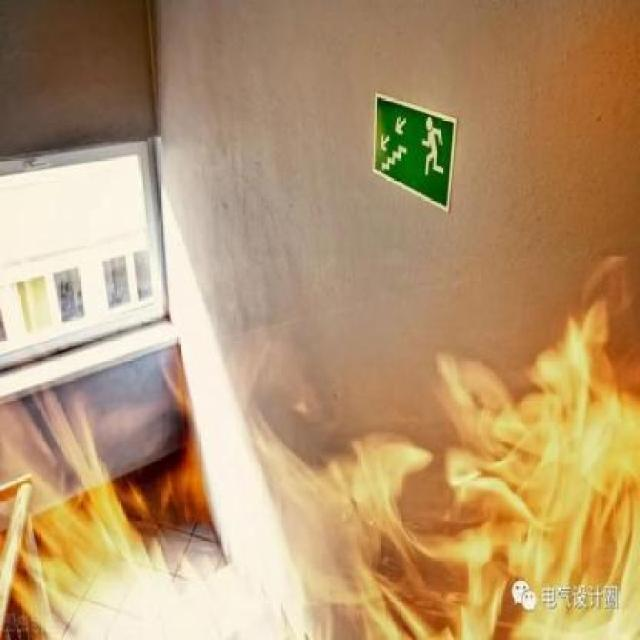exit_sign: (368, 88, 462, 208)
